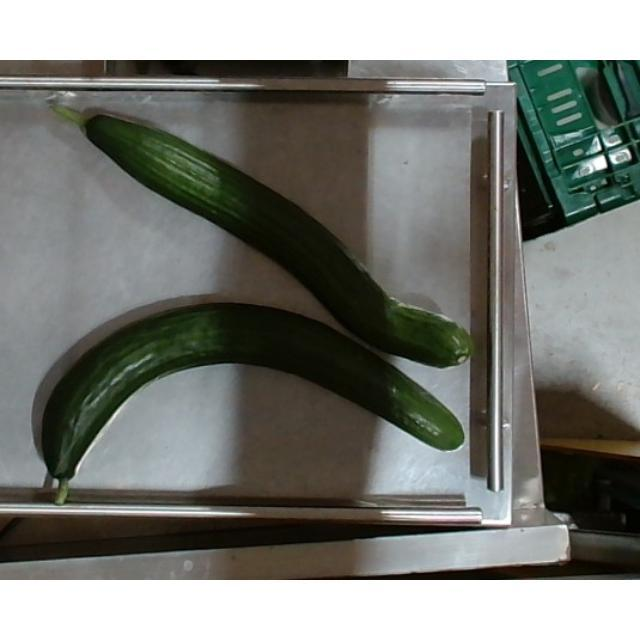cucumber: (43, 102, 477, 368), (36, 302, 468, 506)
